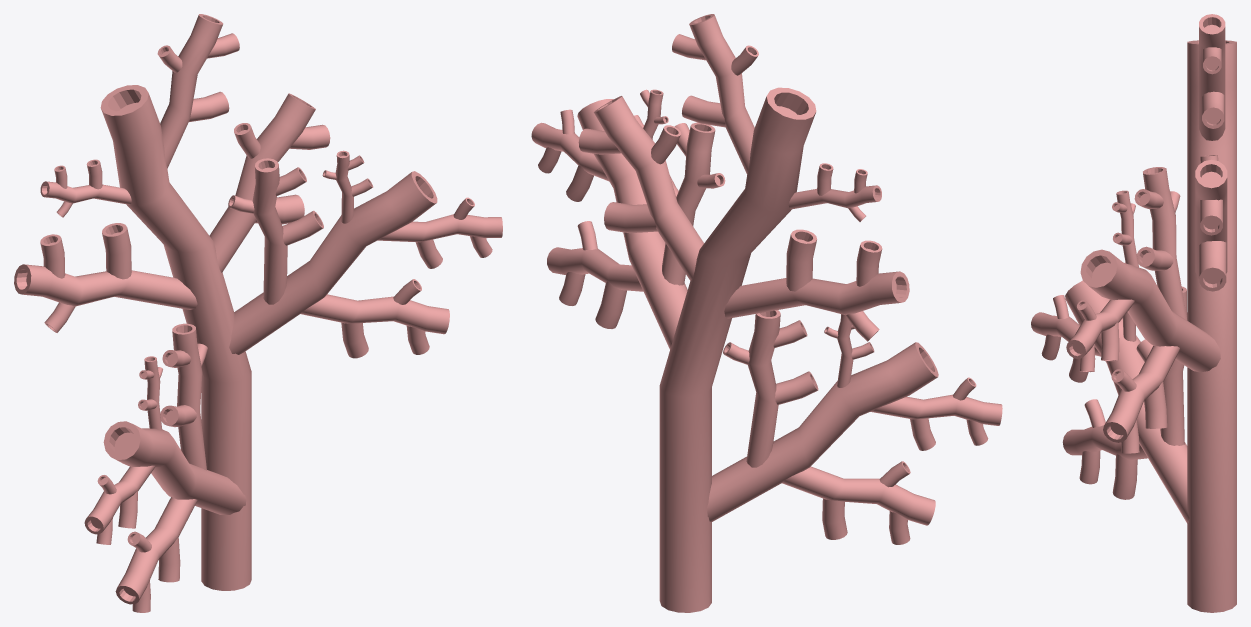
Rendered from Coral_1.fbx.
3 renders of one model, left to right at view 1: azimuth 30°, elevation 25°; view 2: azimuth 150°, elevation 25°; view 3: azimuth 270°, elevation 25°, orthographic. The views are drawn at different scales.
Parts seen in each view (by area): view 1: coral_4; view 2: coral_4; view 3: coral_4.
Part boxes in pixels (x1,y1,x2,y2): coral_4: (14, 14, 502, 612); coral_4: (531, 14, 1002, 612); coral_4: (1031, 14, 1236, 612).
Size of the model in its own units: 31.86 by 39.95 by 12.96.
